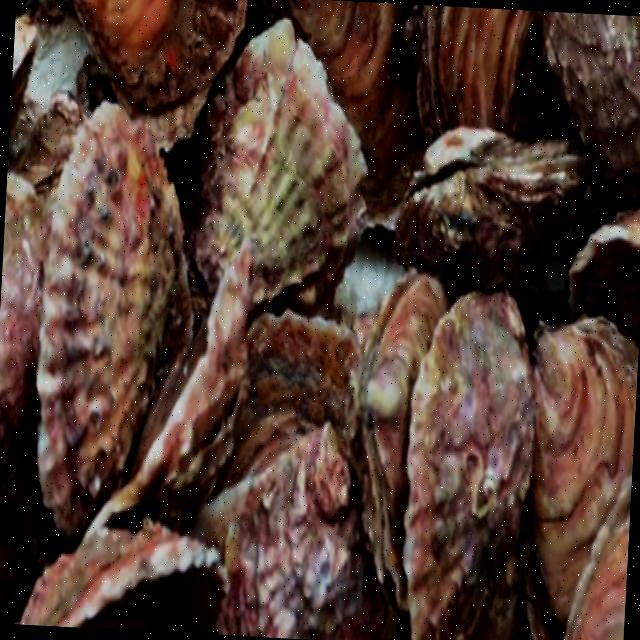Oyster-Closed: (28, 104, 176, 541), (192, 22, 368, 318), (404, 294, 535, 639), (211, 422, 395, 640), (112, 254, 256, 532), (524, 315, 639, 639), (338, 271, 438, 581), (72, 0, 248, 145), (232, 302, 404, 440), (413, 8, 555, 144), (538, 12, 639, 184), (567, 514, 640, 640)
Oyster-Open: (392, 127, 589, 301), (1, 528, 213, 640), (8, 5, 108, 209)
